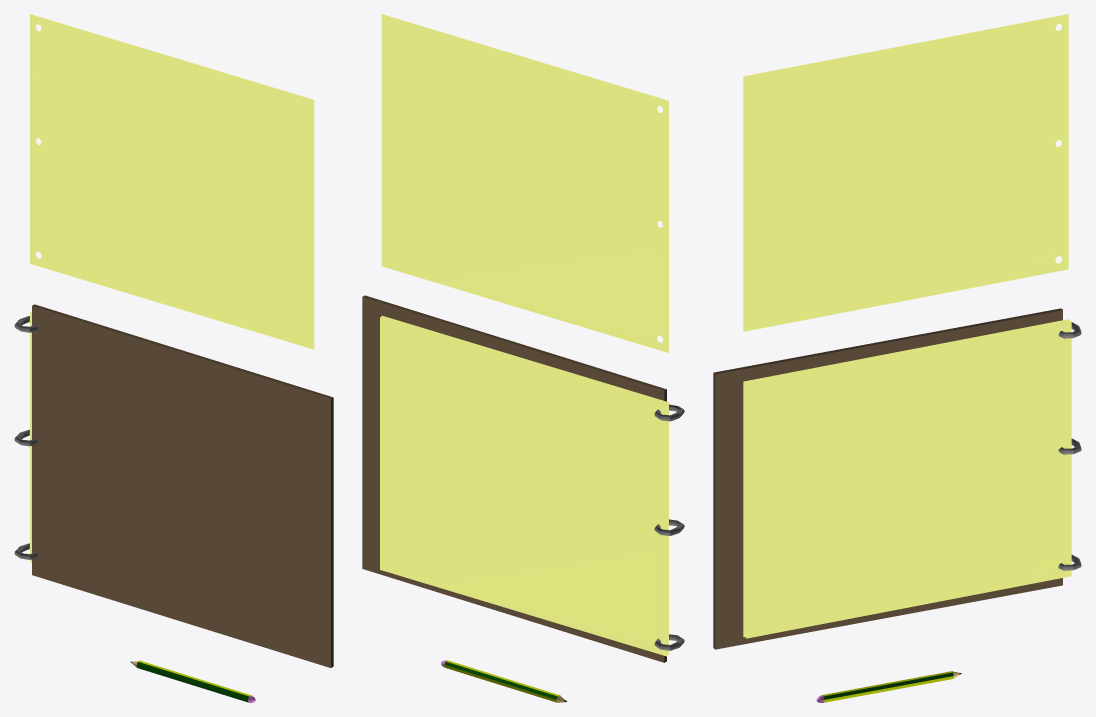
The model's file is note_pad.fbx.
3 views of the same model, side by side, from view 1: azimuth 30°, elevation 25°; view 2: azimuth 210°, elevation 25°; view 3: azimuth 270°, elevation 25° (orthographic). The views are drawn at different scales.
Visible parts, largest first — view 1: imagetostl_mesh5, imagetostl_mesh0, imagetostl_mesh9, imagetostl_mesh6; view 2: imagetostl_mesh0, imagetostl_mesh1, imagetostl_mesh5, imagetostl_mesh3, imagetostl_mesh6, imagetostl_mesh10, imagetostl_mesh2, imagetostl_mesh4; view 3: imagetostl_mesh0, imagetostl_mesh1, imagetostl_mesh5, imagetostl_mesh3, imagetostl_mesh2, imagetostl_mesh10, imagetostl_mesh6, imagetostl_mesh4.
Part boxes in pixels (x1,y1,x2,y2): imagetostl_mesh5: (32, 304, 333, 667); imagetostl_mesh0: (30, 14, 314, 349); imagetostl_mesh9: (136, 662, 248, 702); imagetostl_mesh6: (14, 316, 37, 559); imagetostl_mesh0: (381, 14, 668, 352); imagetostl_mesh1: (380, 317, 666, 656); imagetostl_mesh5: (362, 295, 666, 662); imagetostl_mesh3: (381, 316, 668, 654); imagetostl_mesh6: (654, 404, 684, 650); imagetostl_mesh10: (444, 660, 559, 702); imagetostl_mesh2: (380, 317, 667, 655); imagetostl_mesh4: (382, 315, 668, 654); imagetostl_mesh0: (743, 14, 1068, 331); imagetostl_mesh1: (746, 321, 1071, 638); imagetostl_mesh5: (713, 308, 1062, 649); imagetostl_mesh3: (744, 319, 1068, 637); imagetostl_mesh2: (745, 320, 1070, 637); imagetostl_mesh10: (822, 671, 953, 702); imagetostl_mesh6: (1058, 322, 1081, 570); imagetostl_mesh4: (743, 319, 1068, 636).
Size of the model in its own units: 281 by 1159 by 605.
